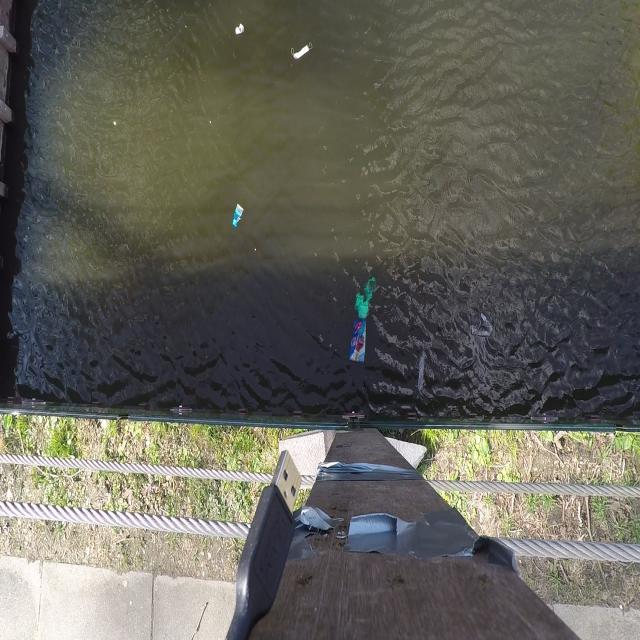Non plastique: (229, 200, 247, 235), (289, 42, 316, 61)
Sac plastique: (349, 267, 379, 321)
